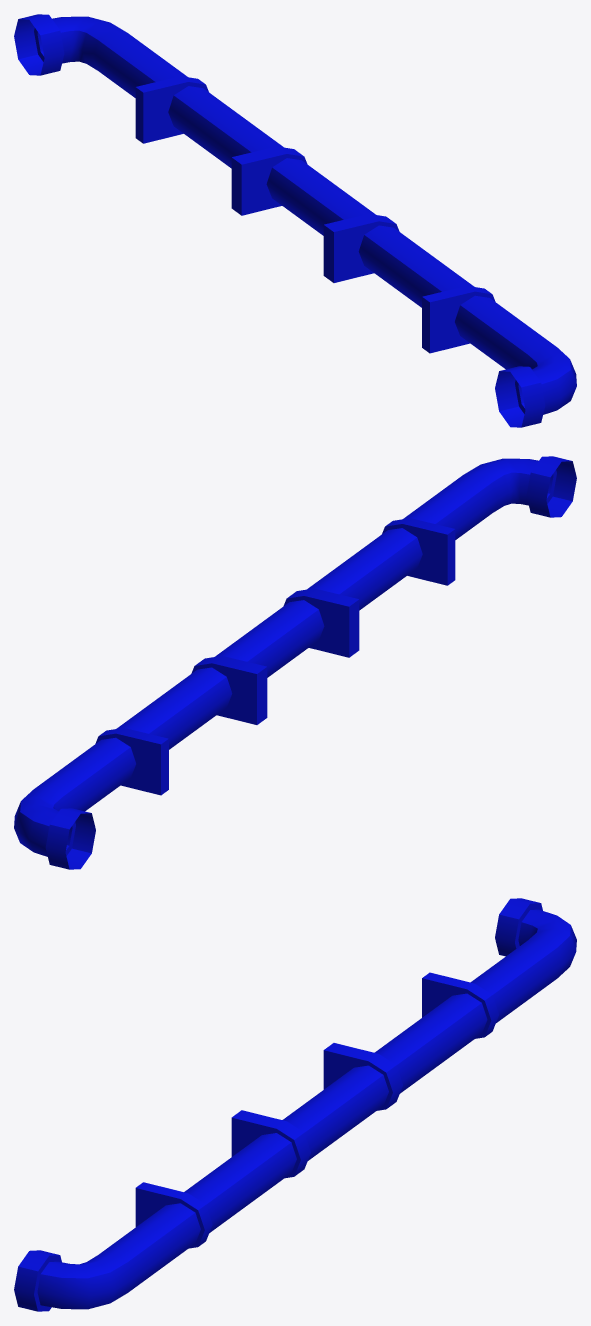
File: SM_VALVE_CANO_06.fbx
3 views of the same model, one above another, from view 1: azimuth 30°, elevation 25°; view 2: azimuth 150°, elevation 25°; view 3: azimuth 330°, elevation 25° (orthographic).
Parts seen in each view (by area): view 1: SM_VALVE_CANO_06; view 2: SM_VALVE_CANO_06; view 3: SM_VALVE_CANO_06.
Boxes of the visible parts, bbox=[...] form: SM_VALVE_CANO_06: bbox=[14, 14, 576, 427]; SM_VALVE_CANO_06: bbox=[14, 456, 576, 869]; SM_VALVE_CANO_06: bbox=[14, 898, 576, 1311].
Bounding box in the file's own units: 0.5576 × 0.3586 × 6.
